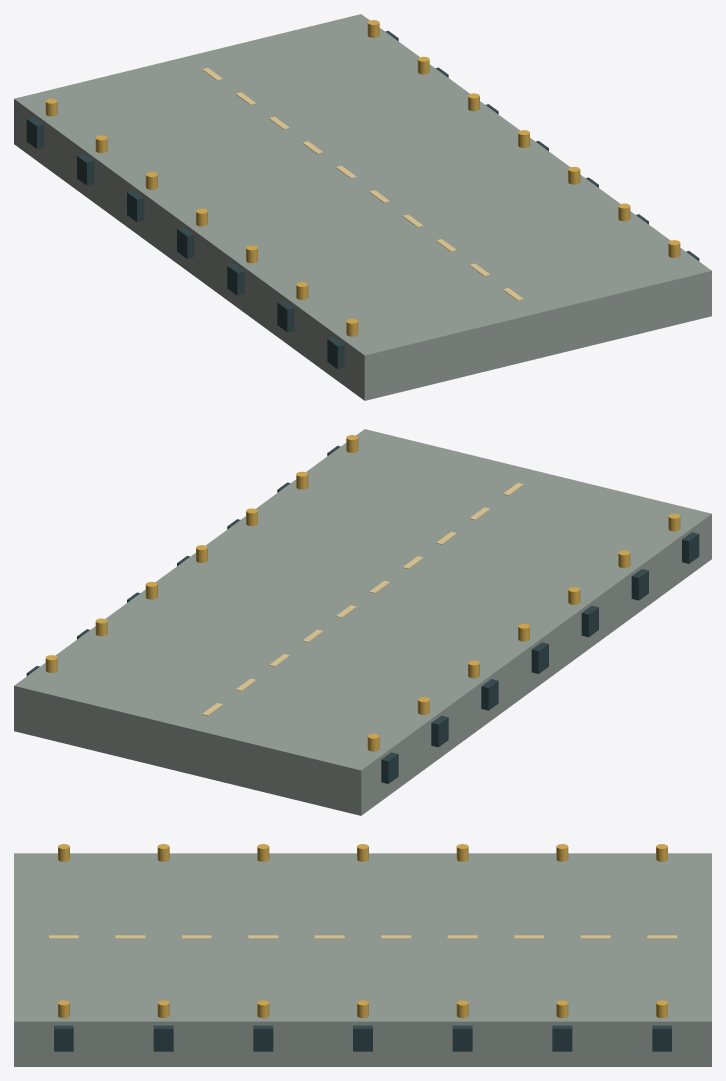
File: concrete-quay.glb
The picture shows the model from 3 angles, top to bottom: view 1: azimuth 30°, elevation 25°; view 2: azimuth 150°, elevation 25°; view 3: azimuth 270°, elevation 25°; orthographic projection.
Parts seen in each view (by area): view 1: concrete-quay; view 2: concrete-quay; view 3: concrete-quay (×8).
Part boxes in pixels (left/top/right/bottom): concrete-quay: left=14, top=14, right=711, bottom=400; concrete-quay: left=14, top=429, right=711, bottom=815; concrete-quay (×8): left=14, top=853, right=711, bottom=1066.
Size of the model in its own units: 12.5 by 1.92 by 21.
